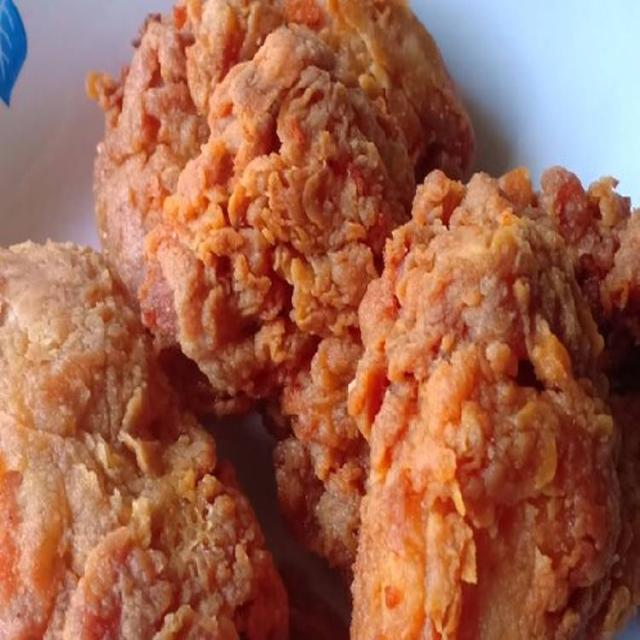Frango: (83, 0, 572, 575), (350, 175, 639, 640), (2, 242, 284, 640)
